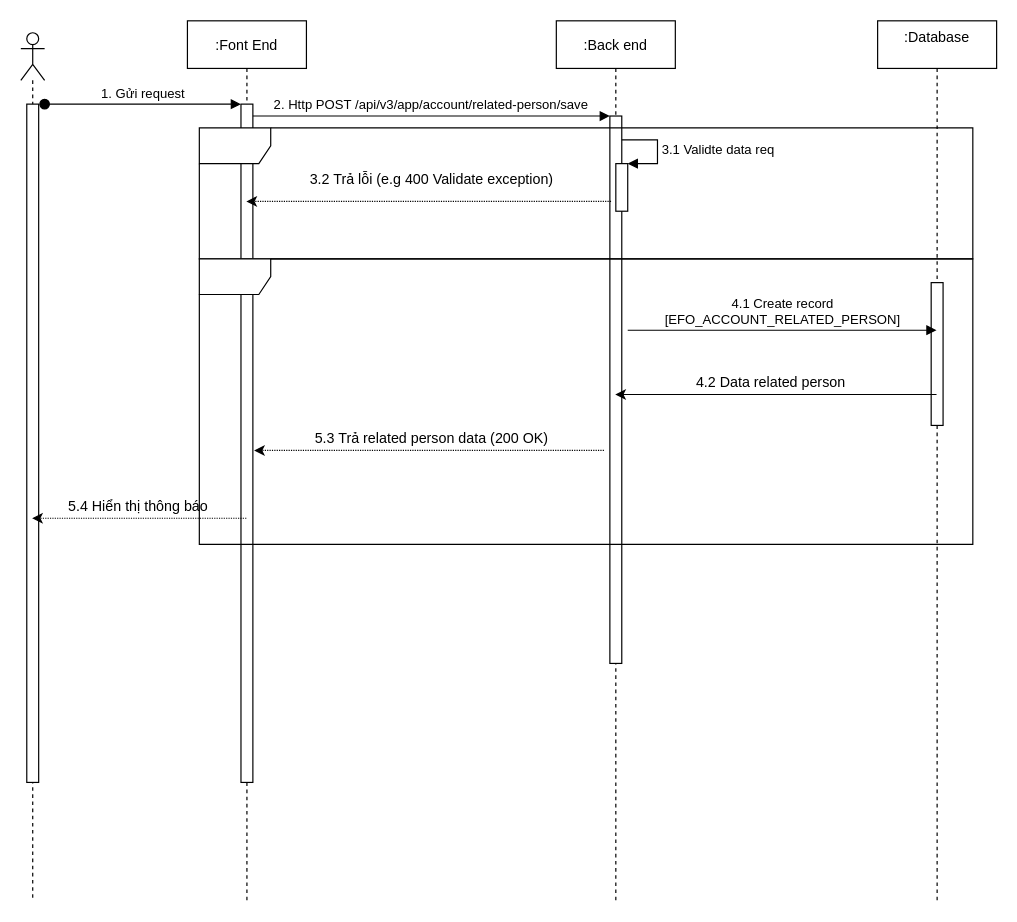
Some shapes in this 1017 by 922 pixel diagram are drawn without their labels. Here are the shapes that lost their labels. From the top down, the box of each, then its label:
(198, 127, 973, 259): Fail
(198, 258, 973, 544): Success
